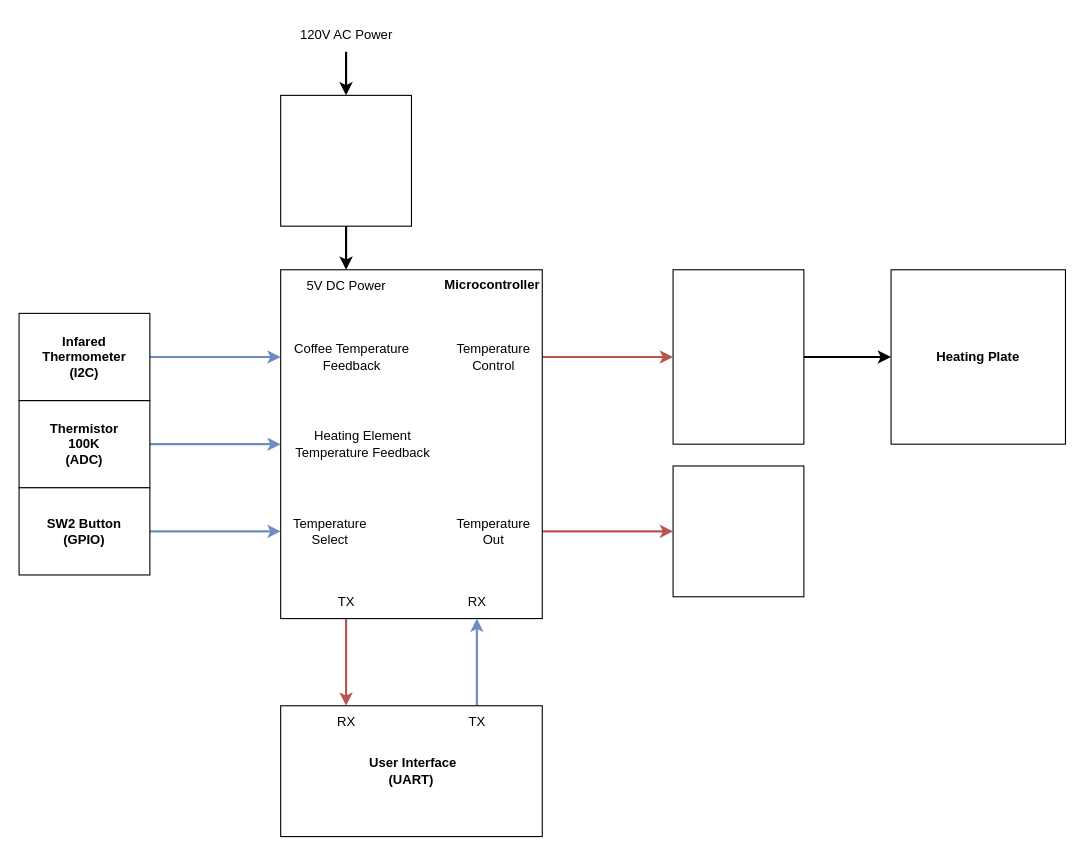
Image size: 1085x856. Some labels were removed from this diagram. The centre of each missing label's shape, as x and y in pixels:
Buck Converter (120V AC to 5V DC): the point at 345,160
LCD Display (I2C): the point at 738,531
Solid State Relay (GPIO): the point at 738,356
